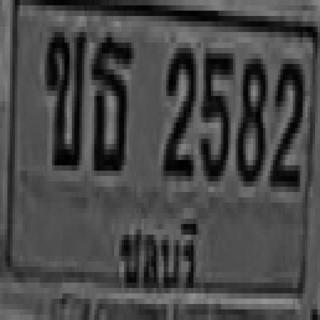A02: (45, 27, 84, 165)
A24: (89, 35, 132, 168)
N02: (164, 48, 196, 176), (271, 56, 303, 184)
N05: (200, 48, 232, 176)
N08: (236, 53, 265, 181)
P13: (117, 207, 203, 291)
